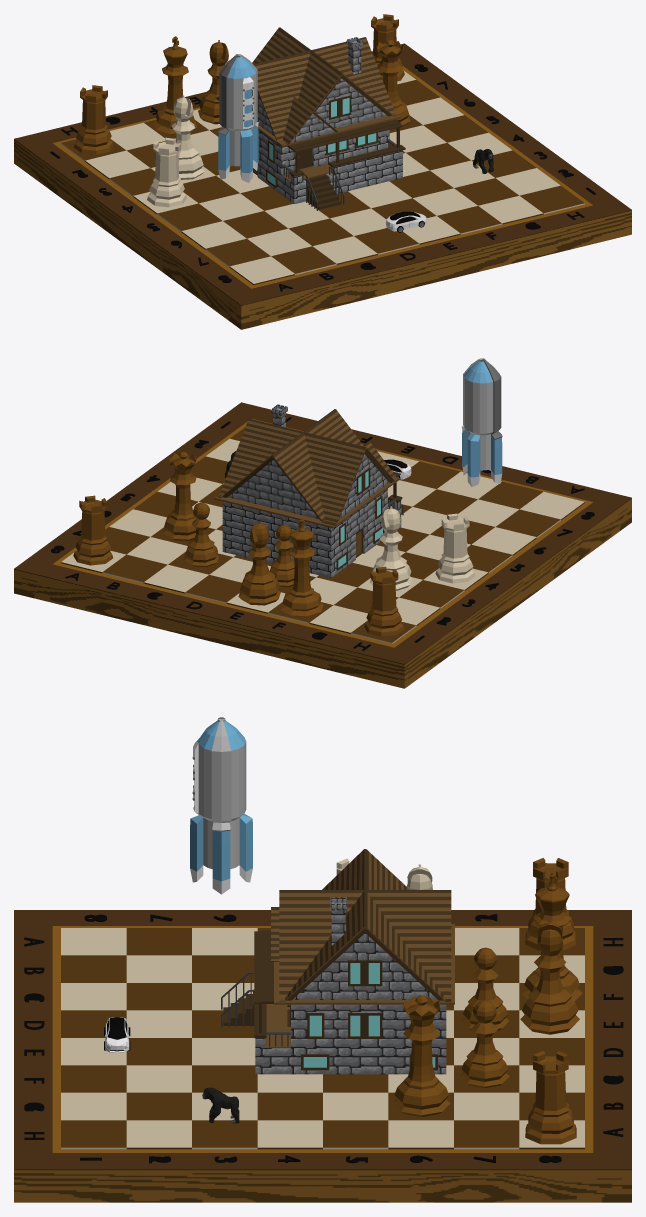
The picture shows the model from 3 angles, top to bottom: view 1: azimuth 30°, elevation 25°; view 2: azimuth 150°, elevation 25°; view 3: azimuth 270°, elevation 25°; orthographic projection. The views are drawn at different scales.
Visible parts, largest first — view 1: Cube.002, Cube.586, OBJRANDOM_ROCKETSHIP, VEHICLES_TESLA; view 2: Cube.002, Cube.586, OBJRANDOM_ROCKETSHIP; view 3: Cube.002, Cube.586, OBJRANDOM_ROCKETSHIP, VEHICLES_TESLA, ANIMAL_GORILA.
Boxes of the visible parts, box(x1,y1,x2,y2) form: Cube.002: box(14, 14, 631, 329); Cube.586: box(215, 27, 405, 210); OBJRANDOM_ROCKETSHIP: box(218, 54, 258, 182); VEHICLES_TESLA: box(386, 211, 426, 232); Cube.002: box(14, 402, 631, 688); Cube.586: box(214, 404, 403, 577); OBJRANDOM_ROCKETSHIP: box(461, 358, 502, 487); Cube.002: box(14, 858, 631, 1202); Cube.586: box(221, 849, 454, 1074); OBJRANDOM_ROCKETSHIP: box(190, 717, 252, 894); VEHICLES_TESLA: box(104, 1017, 130, 1052); ANIMAL_GORILA: box(202, 1087, 239, 1123).
Size of the model in its own units: 3981 by 2037 by 4012.
Materials: 35 (3 with a texture image).
